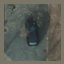car: (23, 15, 42, 48)
